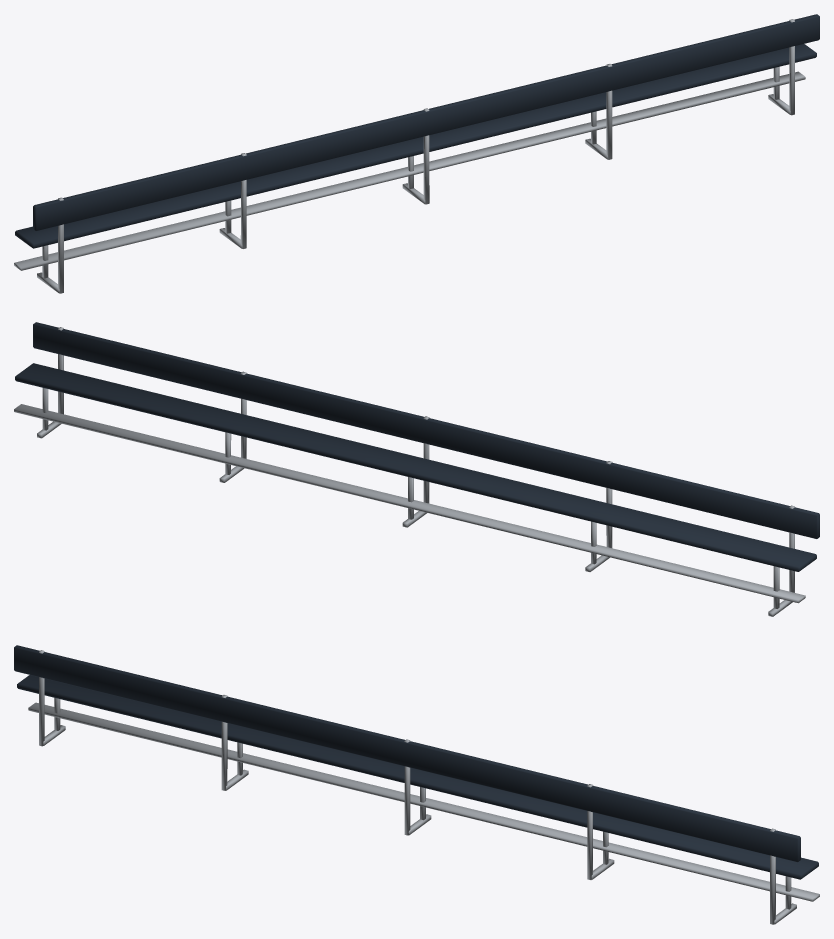
Rendered from bench_lod1.glb.
3 renders of one model, top to bottom at view 1: azimuth 30°, elevation 25°; view 2: azimuth 150°, elevation 25°; view 3: azimuth 330°, elevation 25°, orthographic.
Visible parts, largest first — view 1: bench_lod1; view 2: bench_lod1; view 3: bench_lod1.
Boxes of the visible parts, box(x1,y1,x2,y2) form: bench_lod1: box(14, 14, 819, 293); bench_lod1: box(14, 322, 819, 616); bench_lod1: box(14, 645, 819, 924).
Bounding box in the file's own units: 7.3 × 0.84 × 0.3734.
